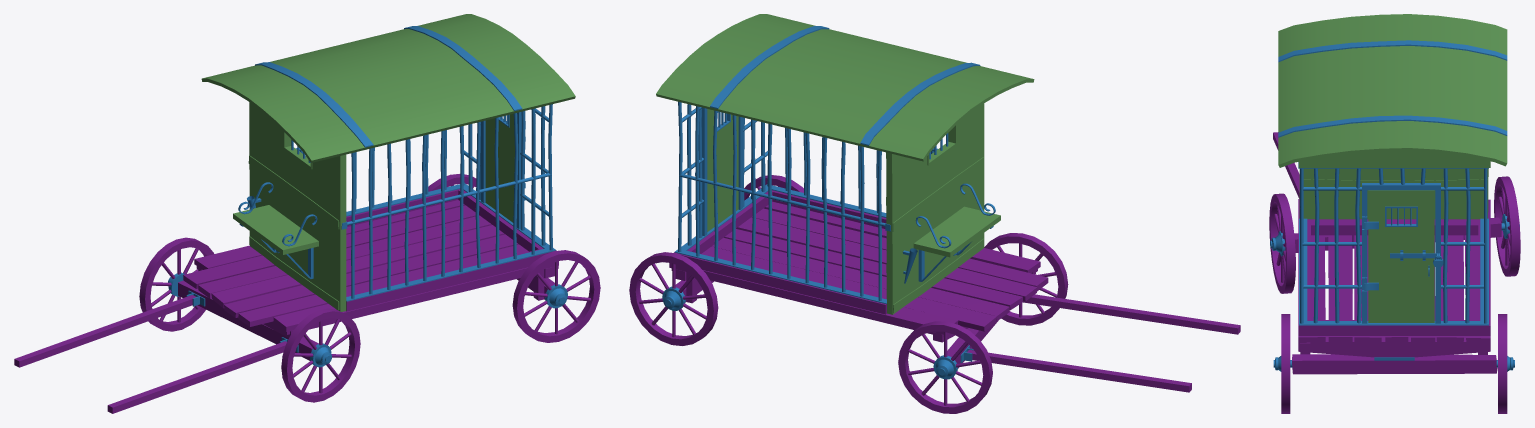
The model's file is telega1.fbx.
The picture shows the model from 3 angles, left to right: view 1: azimuth 30°, elevation 25°; view 2: azimuth 150°, elevation 25°; view 3: azimuth 270°, elevation 25°; orthographic projection. The views are drawn at different scales.
Visible parts, largest first — view 1: Box001; view 2: Box001; view 3: Box001.
Part boxes in pixels (bbox=[...]): Box001: bbox=[14, 14, 600, 413]; Box001: bbox=[629, 14, 1240, 413]; Box001: bbox=[1269, 14, 1520, 413].
Bounding box in the file's own units: 4557 × 2199 × 1851.
